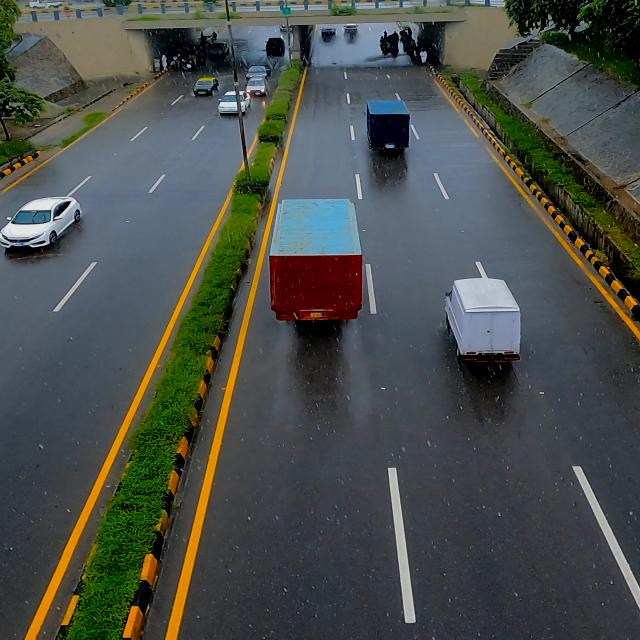Vehicle: (268, 198, 359, 330), (436, 275, 516, 372), (0, 190, 86, 259), (360, 100, 410, 153), (216, 88, 248, 120), (186, 74, 218, 98)
